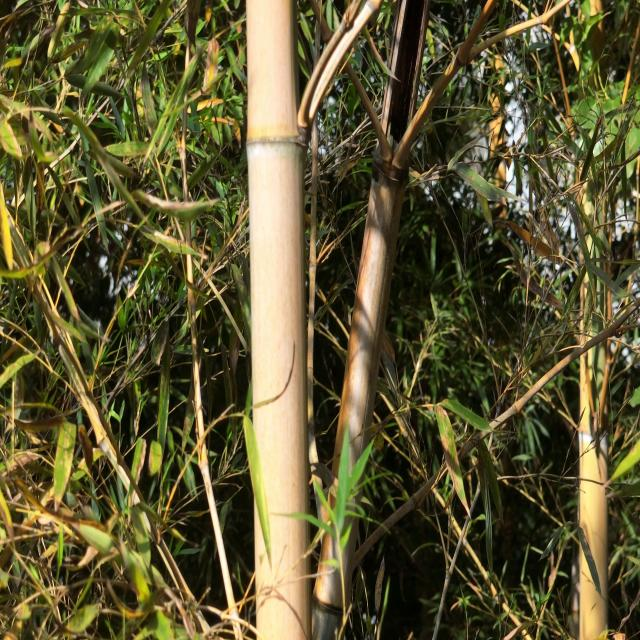Bamboo-shoots: (246, 0, 309, 640)
